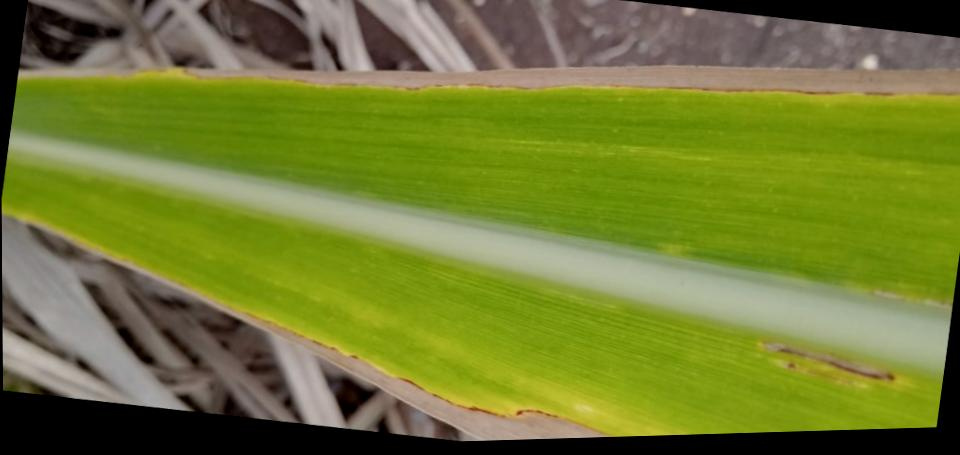Rust: (760, 341, 894, 380), (785, 361, 797, 369)
Yellow: (100, 69, 960, 309), (234, 296, 749, 437)
